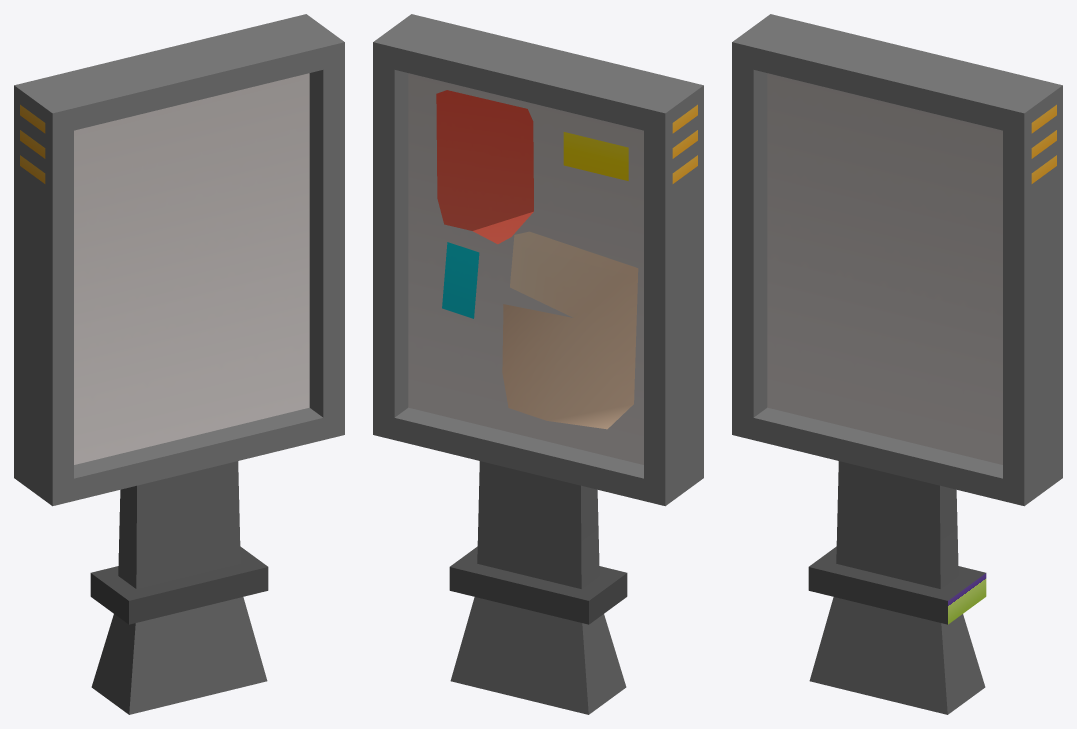
File: Billboard.fbx
3 views of the same model, side by side, from view 1: azimuth 30°, elevation 25°; view 2: azimuth 150°, elevation 25°; view 3: azimuth 330°, elevation 25° (orthographic).
Parts seen in each view (by area): view 1: Bilboard_1A; view 2: Bilboard_1A; view 3: Bilboard_1A.
Boxes of the visible parts, x1,y1,x2,y2 form: Bilboard_1A: [14, 14, 344, 714]; Bilboard_1A: [373, 14, 703, 714]; Bilboard_1A: [732, 14, 1062, 714].
Bounding box in the file's own units: 4186 × 8450 × 1122.
